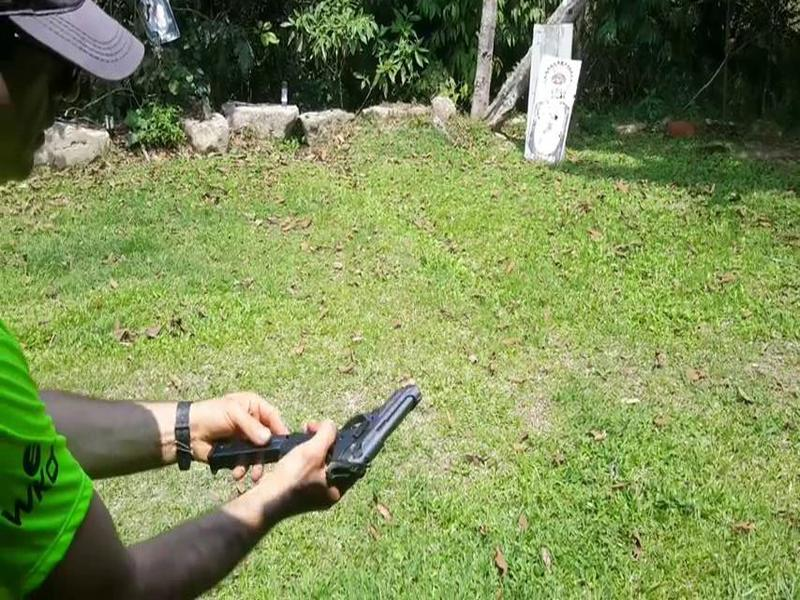Pistola: (291, 382, 422, 475)
